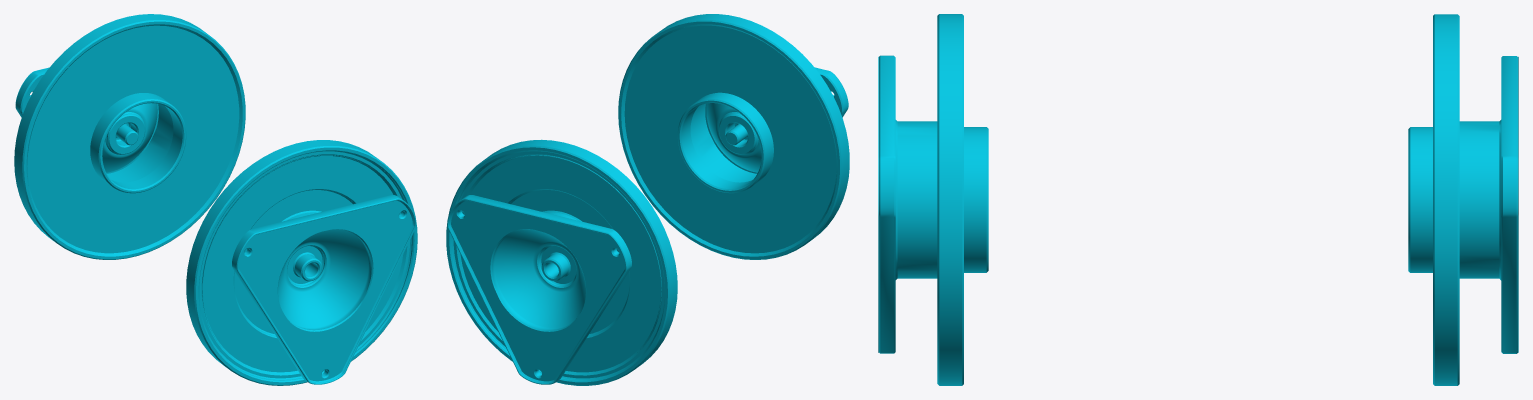
The picture shows the model from 3 angles, left to right: view 1: azimuth 30°, elevation 25°; view 2: azimuth 150°, elevation 25°; view 3: azimuth 270°, elevation 25°; orthographic projection. The views are drawn at different scales.
Parts seen in each view (by area): view 1: Cylinder.005, Cylinder.001; view 2: Cylinder.001, Cylinder.005; view 3: Cylinder.001, Cylinder.005.
Boxes of the visible parts, x1,y1,x2,y2 form: Cylinder.005: (14,14,245,259); Cylinder.001: (186,140,417,385); Cylinder.001: (618,14,849,259); Cylinder.005: (446,139,677,385); Cylinder.001: (878,14,988,385); Cylinder.005: (1408,14,1518,385).
Bounding box in the file's own units: 1.79 × 1.79 × 3.09.
